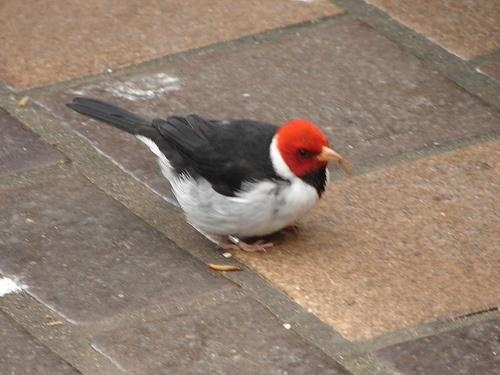bird: (65, 91, 356, 255)
